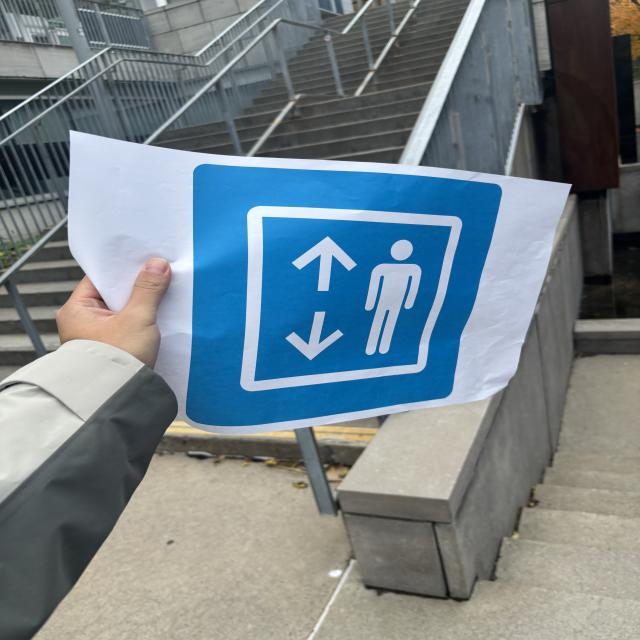elevator: (191, 165, 497, 430)
